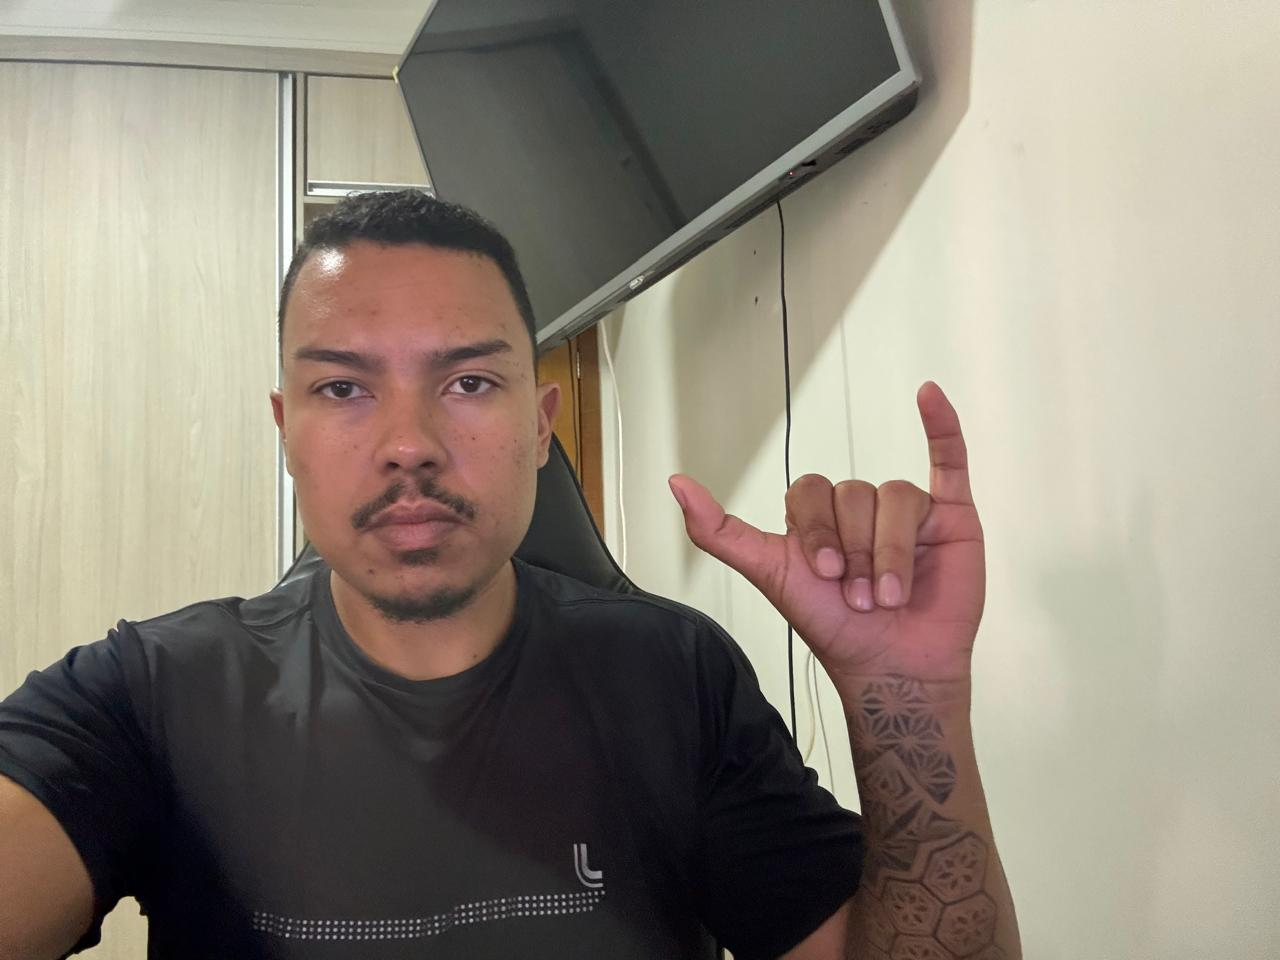y: (667, 369, 1002, 701)
